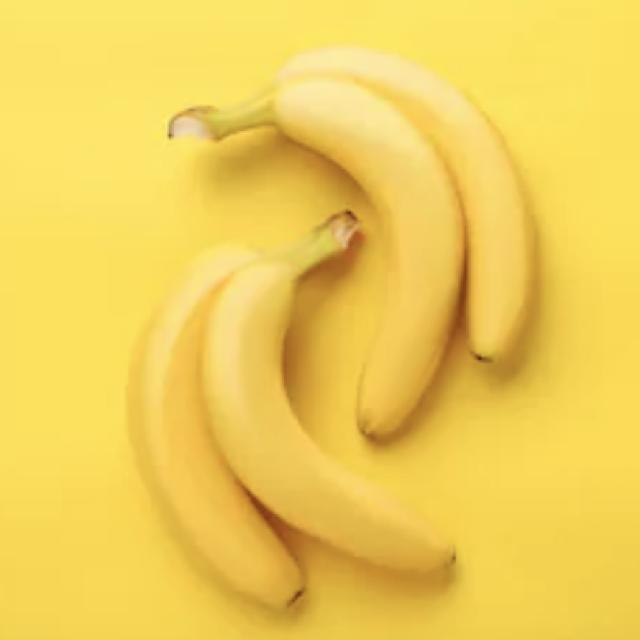Banana: (165, 44, 539, 445), (125, 207, 458, 613)
